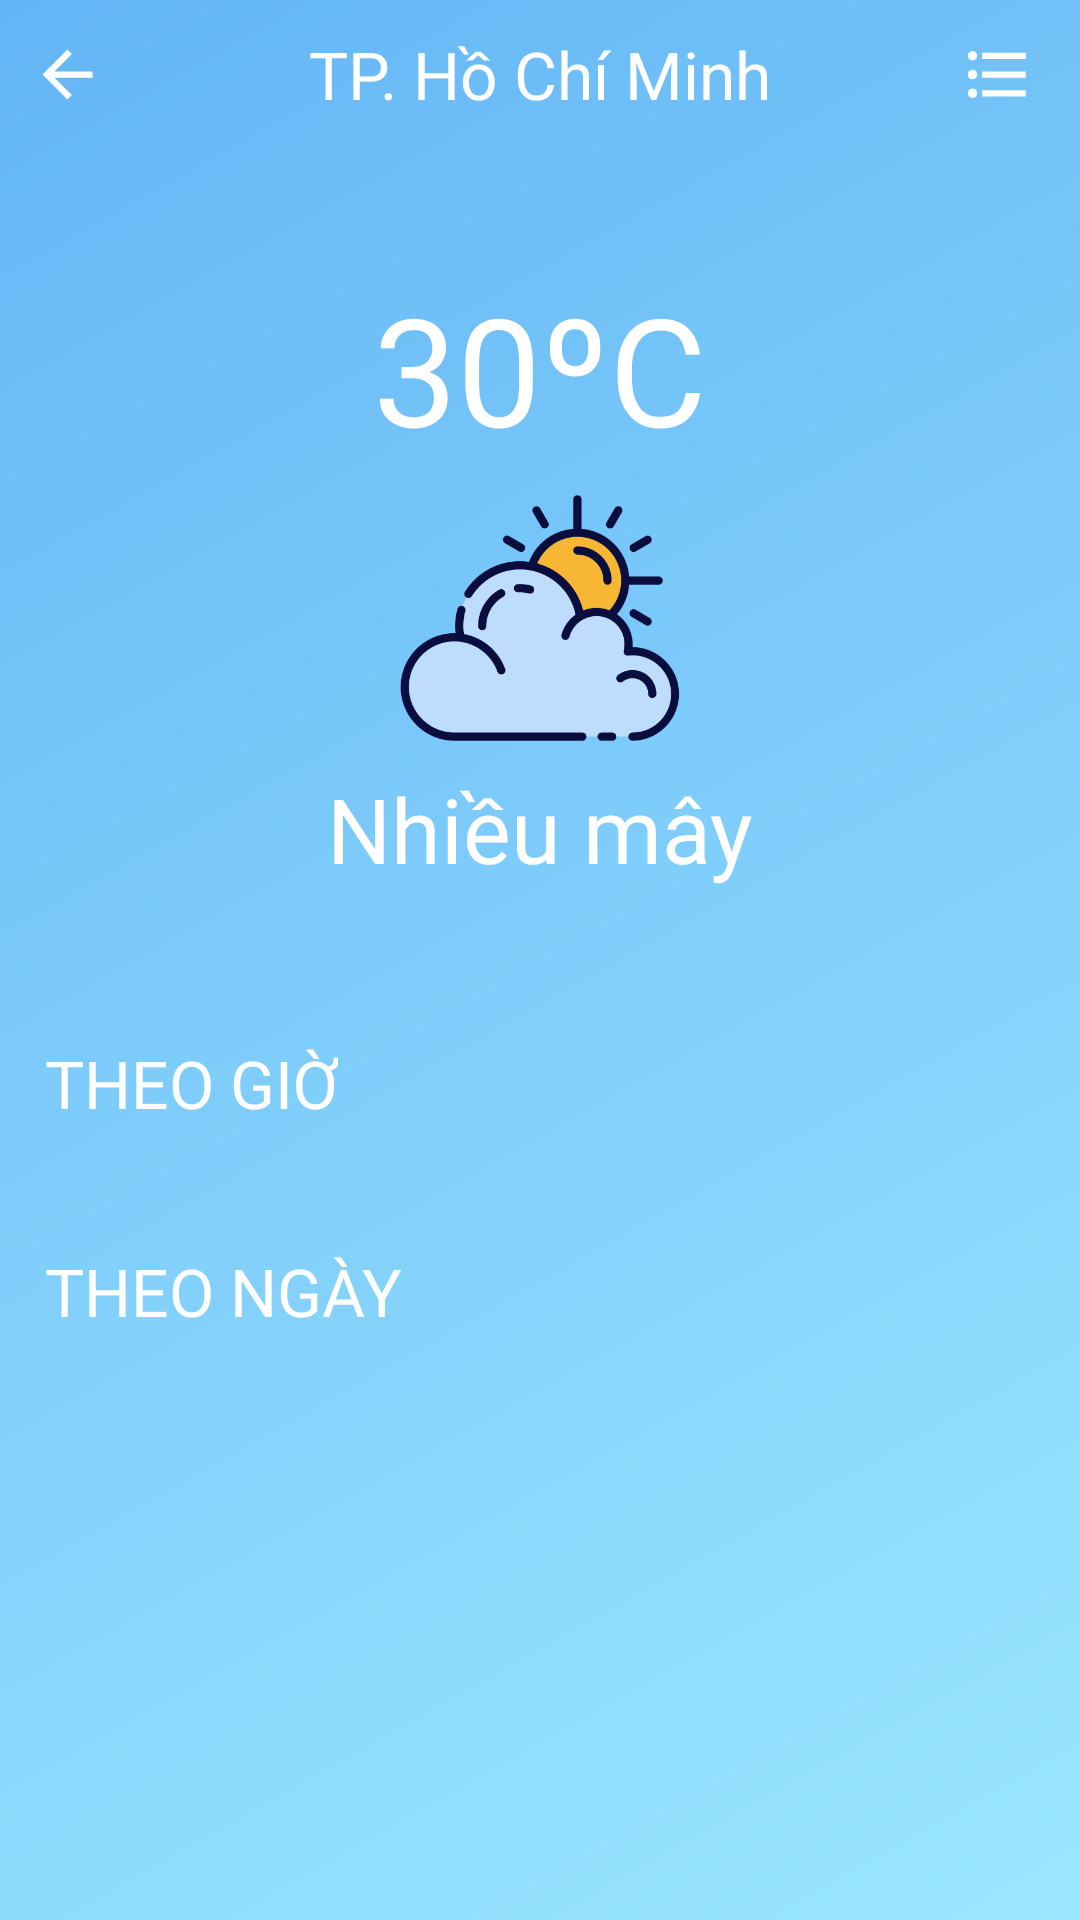

Named icons in this screenshot (1080*1920) and their bounding boxes, detection(x1, y1, x2, y2):
arrow back: detection(42, 49, 93, 100)
list bulleted: detection(967, 51, 1026, 98)
